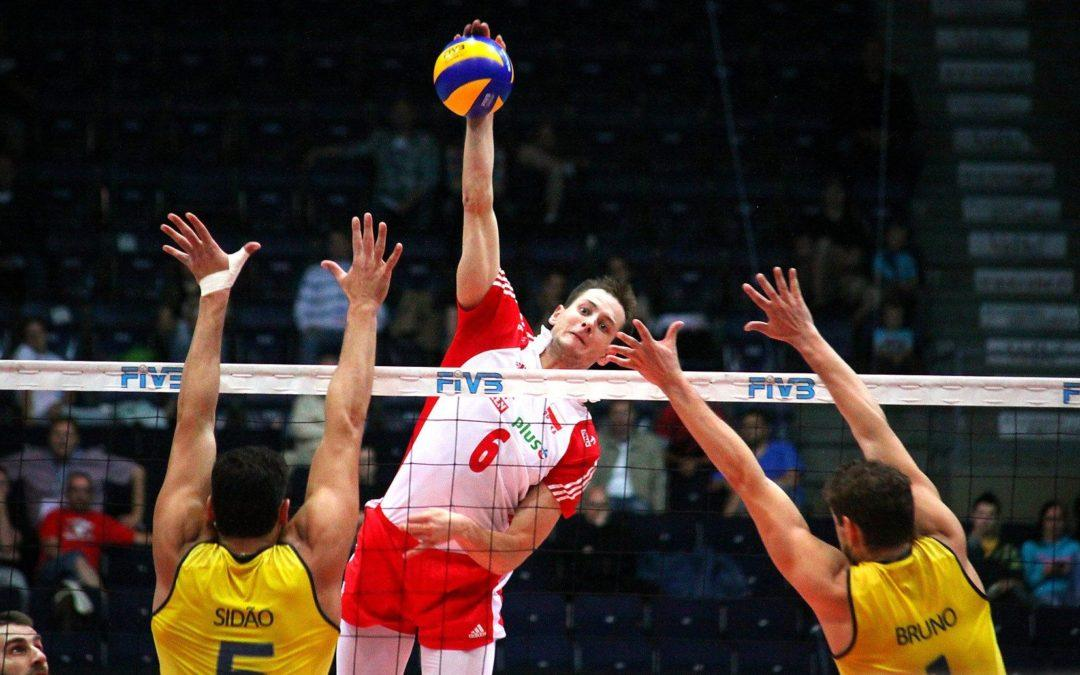ballon_volley: (433, 35, 515, 121)
